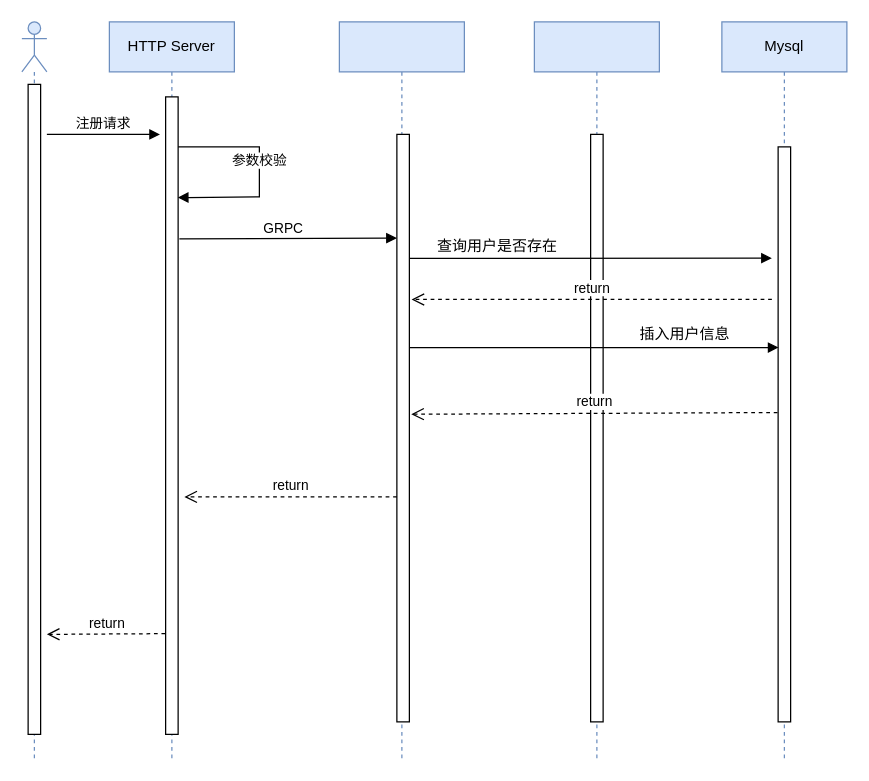
Image size: 869x781. Some labels were removed from this diagram. The shapes that lost their labels are listed below. From the top down, each one's box as (x1, y1, x2, y2) in pixels, then its label:
(338, 21, 464, 759): TCP Server
(533, 21, 659, 759): Redis
